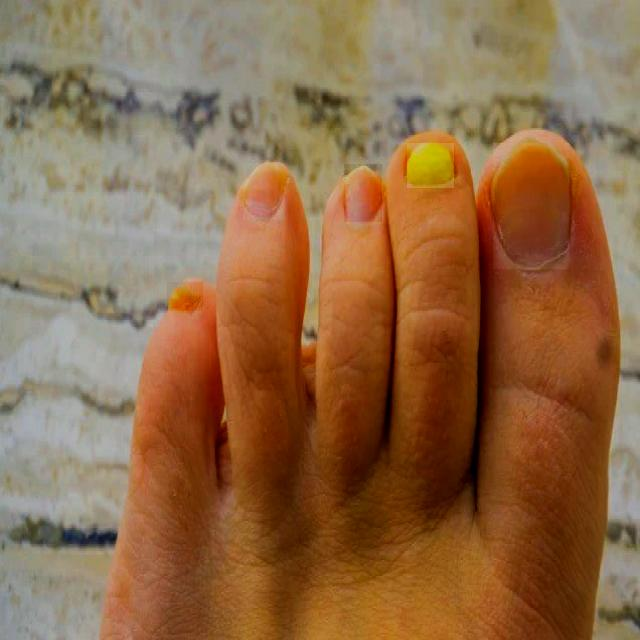diabetes: (493, 144, 569, 269), (244, 163, 285, 220), (344, 165, 382, 222), (408, 144, 454, 188), (168, 283, 203, 311)
